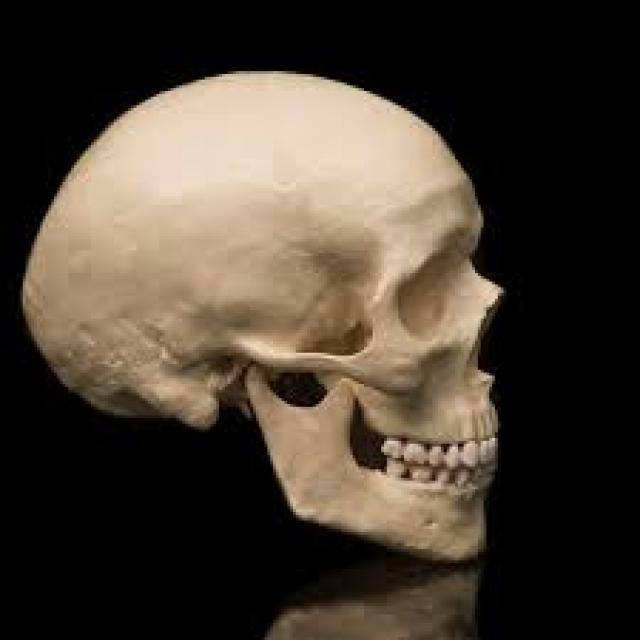skull: (11, 46, 532, 578)
